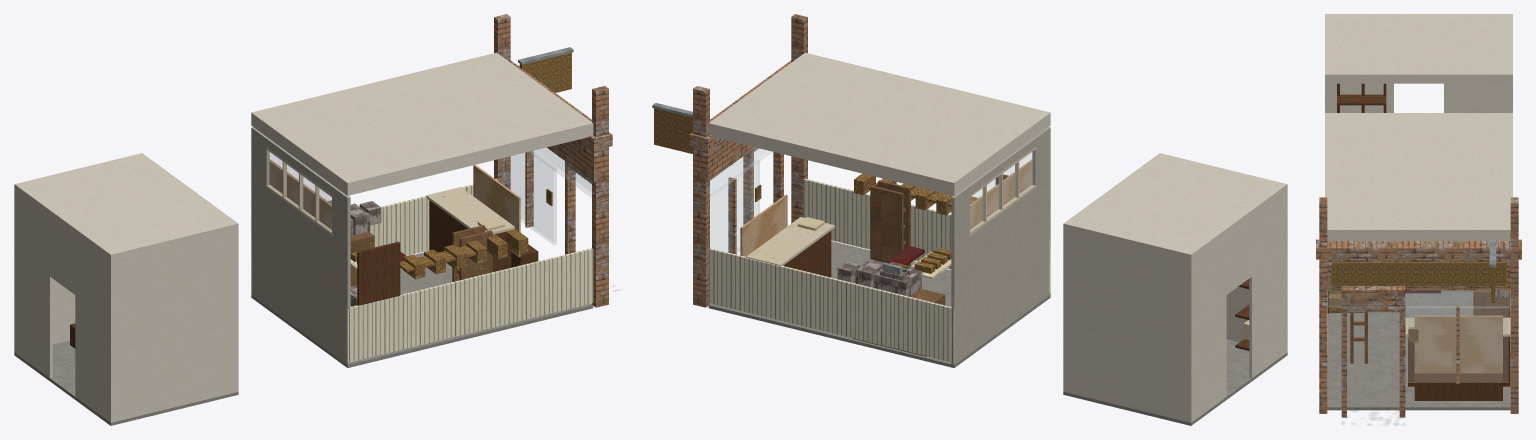
File: shop_keys_cut.gltf
3 views of the same model, side by side, from view 1: azimuth 30°, elevation 25°; view 2: azimuth 150°, elevation 25°; view 3: azimuth 270°, elevation 25° (orthographic). The views are drawn at different scales.
Parts seen in each view (by area): view 1: F01_OWN_SHOP_KEYS_CUT_retail_shop_keys_cut_plaster-col, F01_OWN_SHOP_KEYS_CUT_retail_shop_keys_cut_wainscot-col, F01_OWN_SHOP_KEYS_CUT_retail_shop_keys_cut_plaster_stained-c, F01_OWN_SHOP_KEYS_CUT_retail_shop_keys_cut_common_brick-col, F01_OWN_SHOP_KEYS_CUT_retail_shop_keys_cut_glassish-col, F01_OWN_SHOP_KEYS_CUT_retail_shop_keys_cut_concrete-col, F01_OWN_SHOP_KEYS_CUT_retail_shop_keys_cut_wood_dark-col, F01_OWN_SHOP_KEYS_CUT_retail_shop_keys_cut_plywood-col, F01_OWN_SHOP_KEYS_CUT_retail_shop_keys_cut_brass_dull-col, F01_OWN_SHOP_KEYS_CUT_retail_shop_keys_cut_timber-col, F01_OWN_SHOP_KEYS_CUT_retail_shop_keys_cut_countertop-col, F01_OWN_SHOP_KEYS_CUT_retail_shop_keys_cut_brass-col (+2 smaller); view 2: F01_OWN_SHOP_KEYS_CUT_retail_shop_keys_cut_plaster-col, F01_OWN_SHOP_KEYS_CUT_retail_shop_keys_cut_wainscot-col, F01_OWN_SHOP_KEYS_CUT_retail_shop_keys_cut_plaster_stained-c, F01_OWN_SHOP_KEYS_CUT_retail_shop_keys_cut_common_brick-col, F01_OWN_SHOP_KEYS_CUT_retail_shop_keys_cut_glassish-col, F01_OWN_SHOP_KEYS_CUT_retail_shop_keys_cut_concrete-col, F01_OWN_SHOP_KEYS_CUT_retail_shop_keys_cut_timber-col, F01_OWN_SHOP_KEYS_CUT_retail_shop_keys_cut_plywood-col, F01_OWN_SHOP_KEYS_CUT_retail_shop_keys_cut_brass_dull-col, F01_OWN_SHOP_KEYS_CUT_retail_shop_keys_cut_cast_iron-col, F01_OWN_SHOP_KEYS_CUT_retail_shop_keys_cut_countertop-col, F01_OWN_SHOP_KEYS_CUT_retail_shop_keys_cut_wood_dark-col (+2 smaller); view 3: F01_OWN_SHOP_KEYS_CUT_retail_shop_keys_cut_plaster-col, F01_OWN_SHOP_KEYS_CUT_retail_shop_keys_cut_common_brick-col, F01_OWN_SHOP_KEYS_CUT_retail_shop_keys_cut_concrete-col, F01_OWN_SHOP_KEYS_CUT_retail_shop_keys_cut_glassish-col, F01_OWN_SHOP_KEYS_CUT_retail_shop_keys_cut_plywood-col, F01_OWN_SHOP_KEYS_CUT_retail_shop_keys_cut_brass-col, F01_OWN_SHOP_KEYS_CUT_retail_shop_keys_cut_wood_dark-col, F01_OWN_SHOP_KEYS_CUT_retail_shop_keys_cut_timber-col, F01_OWN_SHOP_KEYS_CUT_retail_shop_keys_cut_brass_dull-col, F01_OWN_SHOP_KEYS_CUT_retail_shop_keys_cut_countertop-col, F01_OWN_SHOP_KEYS_CUT_retail_shop_keys_cut_wainscot-col, F01_OWN_SHOP_KEYS_CUT_retail_shop_keys_cut_metal-col.
Part boxes in pixels (x1,y1,x2,y2): F01_OWN_SHOP_KEYS_CUT_retail_shop_keys_cut_plaster-col: (14, 52, 593, 422); F01_OWN_SHOP_KEYS_CUT_retail_shop_keys_cut_wainscot-col: (251, 178, 593, 362); F01_OWN_SHOP_KEYS_CUT_retail_shop_keys_cut_plaster_stained-c: (251, 127, 350, 364); F01_OWN_SHOP_KEYS_CUT_retail_shop_keys_cut_common_brick-col: (494, 14, 612, 307); F01_OWN_SHOP_KEYS_CUT_retail_shop_keys_cut_glassish-col: (268, 148, 591, 245); F01_OWN_SHOP_KEYS_CUT_retail_shop_keys_cut_concrete-col: (14, 252, 593, 425); F01_OWN_SHOP_KEYS_CUT_retail_shop_keys_cut_wood_dark-col: (70, 200, 538, 348); F01_OWN_SHOP_KEYS_CUT_retail_shop_keys_cut_plywood-col: (269, 159, 520, 257); F01_OWN_SHOP_KEYS_CUT_retail_shop_keys_cut_brass_dull-col: (350, 229, 528, 279); F01_OWN_SHOP_KEYS_CUT_retail_shop_keys_cut_timber-col: (350, 225, 492, 286); F01_OWN_SHOP_KEYS_CUT_retail_shop_keys_cut_countertop-col: (426, 187, 514, 234); F01_OWN_SHOP_KEYS_CUT_retail_shop_keys_cut_brass-col: (519, 52, 571, 92); F01_OWN_SHOP_KEYS_CUT_retail_shop_keys_cut_plaster-col: (708, 52, 1287, 422); F01_OWN_SHOP_KEYS_CUT_retail_shop_keys_cut_wainscot-col: (708, 178, 1050, 362); F01_OWN_SHOP_KEYS_CUT_retail_shop_keys_cut_plaster_stained-c: (951, 127, 1050, 364); F01_OWN_SHOP_KEYS_CUT_retail_shop_keys_cut_common_brick-col: (689, 14, 807, 307); F01_OWN_SHOP_KEYS_CUT_retail_shop_keys_cut_glassish-col: (710, 148, 1033, 253); F01_OWN_SHOP_KEYS_CUT_retail_shop_keys_cut_concrete-col: (708, 241, 1287, 425); F01_OWN_SHOP_KEYS_CUT_retail_shop_keys_cut_timber-col: (852, 180, 945, 356); F01_OWN_SHOP_KEYS_CUT_retail_shop_keys_cut_plywood-col: (740, 159, 1032, 256); F01_OWN_SHOP_KEYS_CUT_retail_shop_keys_cut_brass_dull-col: (854, 173, 978, 273); F01_OWN_SHOP_KEYS_CUT_retail_shop_keys_cut_cast_iron-col: (837, 259, 921, 296); F01_OWN_SHOP_KEYS_CUT_retail_shop_keys_cut_countertop-col: (746, 217, 834, 265); F01_OWN_SHOP_KEYS_CUT_retail_shop_keys_cut_wood_dark-col: (783, 174, 1249, 350); F01_OWN_SHOP_KEYS_CUT_retail_shop_keys_cut_plaster-col: (1325, 14, 1512, 241); F01_OWN_SHOP_KEYS_CUT_retail_shop_keys_cut_common_brick-col: (1316, 197, 1521, 417); F01_OWN_SHOP_KEYS_CUT_retail_shop_keys_cut_concrete-col: (1327, 292, 1510, 410); F01_OWN_SHOP_KEYS_CUT_retail_shop_keys_cut_glassish-col: (1327, 290, 1510, 382); F01_OWN_SHOP_KEYS_CUT_retail_shop_keys_cut_plywood-col: (1414, 315, 1502, 373); F01_OWN_SHOP_KEYS_CUT_retail_shop_keys_cut_brass-col: (1331, 262, 1506, 302); F01_OWN_SHOP_KEYS_CUT_retail_shop_keys_cut_wood_dark-col: (1327, 83, 1510, 400); F01_OWN_SHOP_KEYS_CUT_retail_shop_keys_cut_timber-col: (1350, 290, 1510, 363); F01_OWN_SHOP_KEYS_CUT_retail_shop_keys_cut_brass_dull-col: (1329, 290, 1341, 311); F01_OWN_SHOP_KEYS_CUT_retail_shop_keys_cut_countertop-col: (1405, 317, 1510, 336); F01_OWN_SHOP_KEYS_CUT_retail_shop_keys_cut_wainscot-col: (1327, 290, 1510, 404); F01_OWN_SHOP_KEYS_CUT_retail_shop_keys_cut_metal-col: (1489, 240, 1496, 267).
Bounding box in the file's own units: 11.14 × 4.25 × 3.72.
21 materials, 20 textured.
